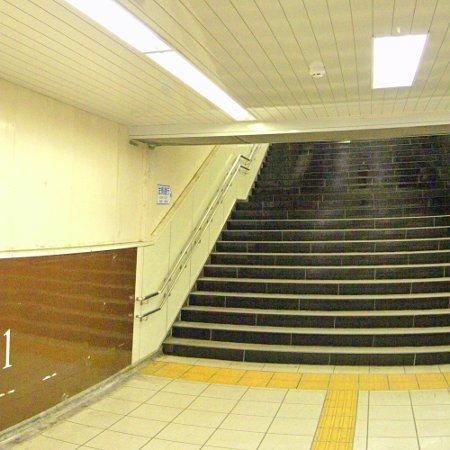stairs: (164, 136, 450, 365)
